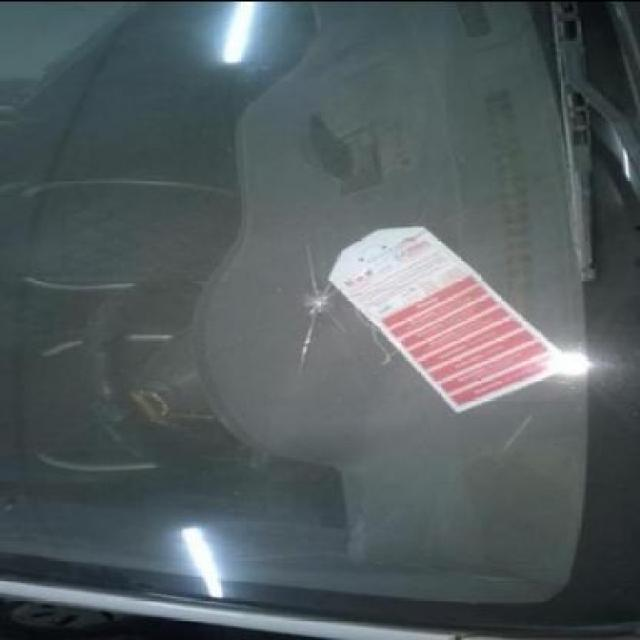damage: (284, 259, 354, 325)
